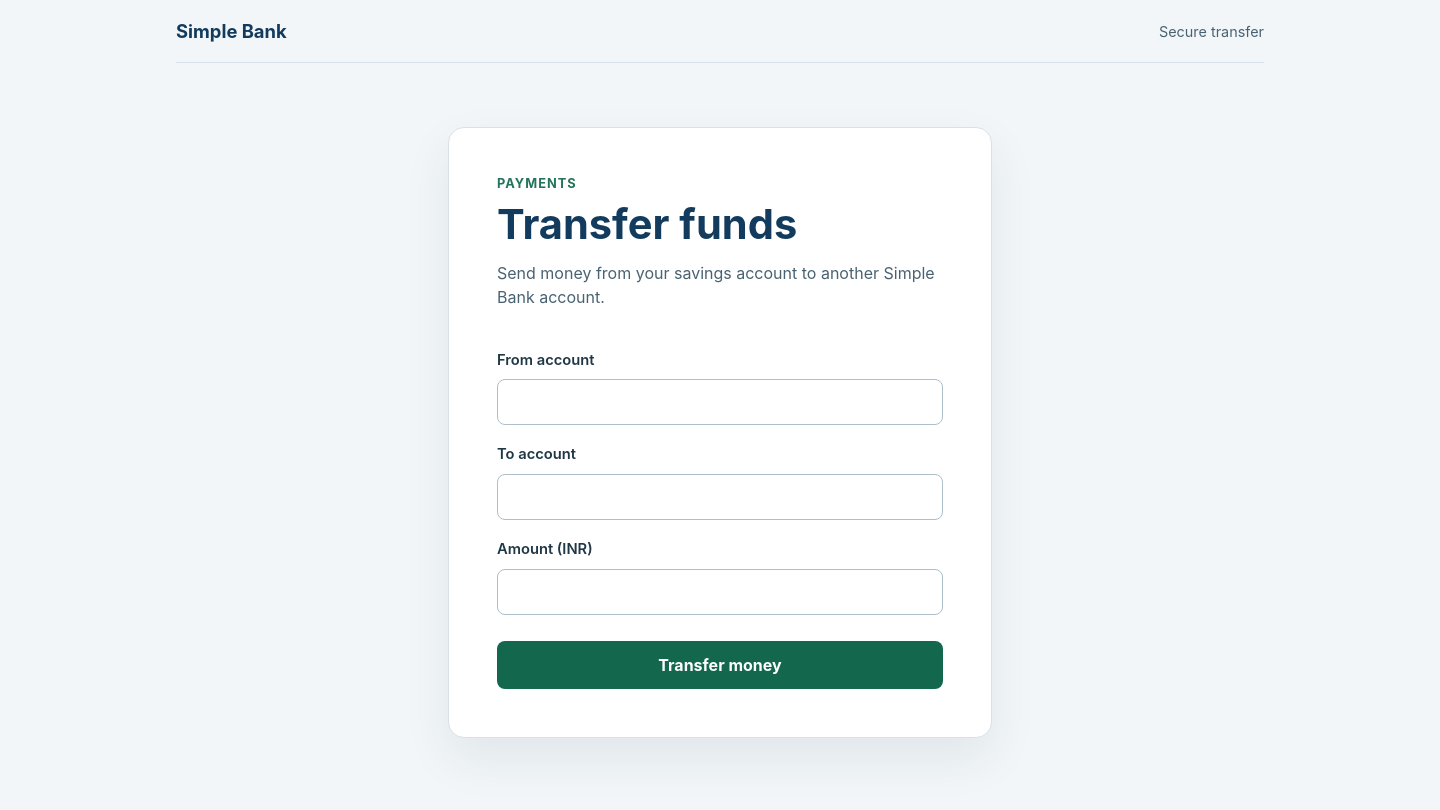
Scenario: TransferPage › shows an API decline without presenting a success confirmation
Type "12345678" into the field labelled "From account".
click(720, 402); type("12345678")  # box [497,379,943,425]
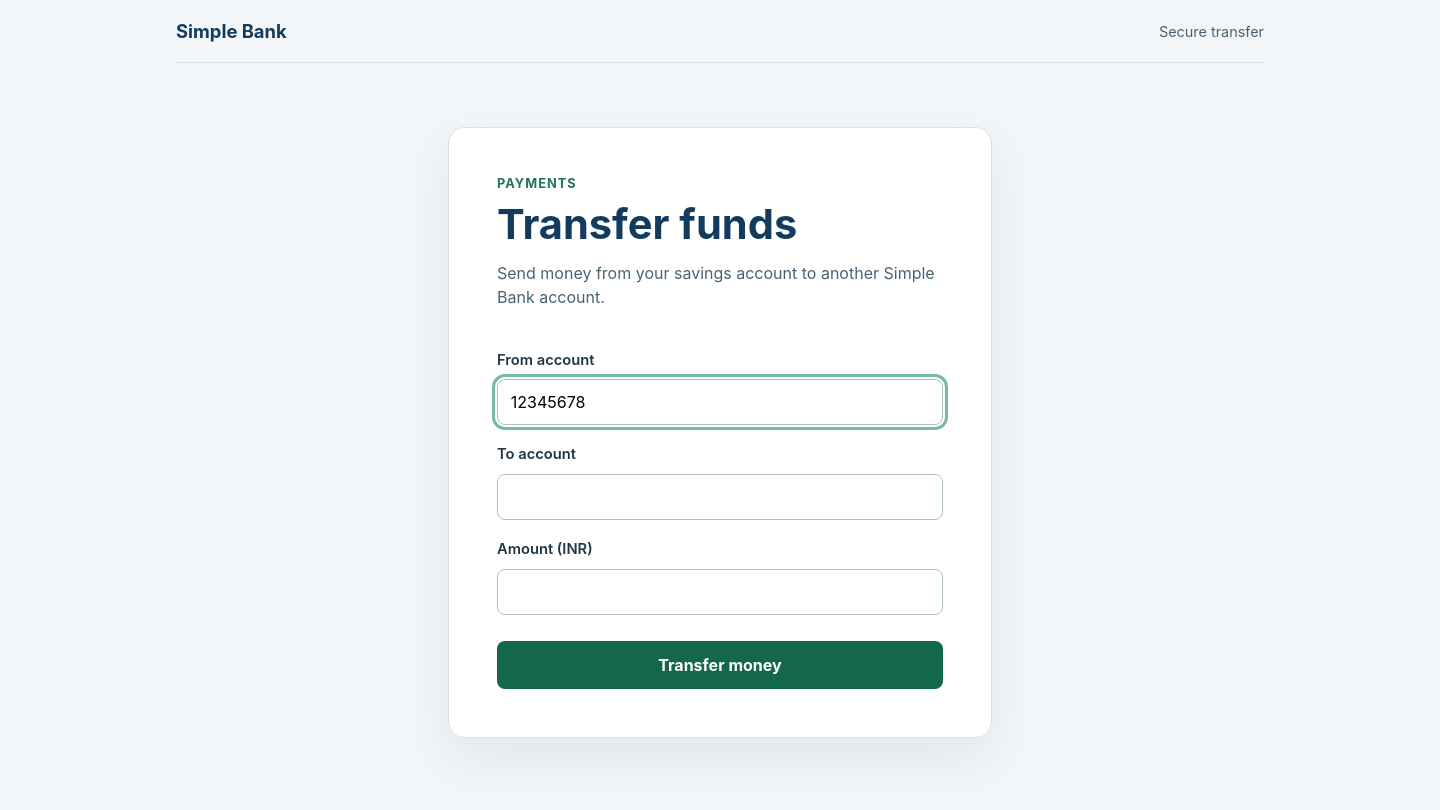
Type "87654321" into the field labelled "To account".
click(720, 497); type("87654321")  # box [497,474,943,520]
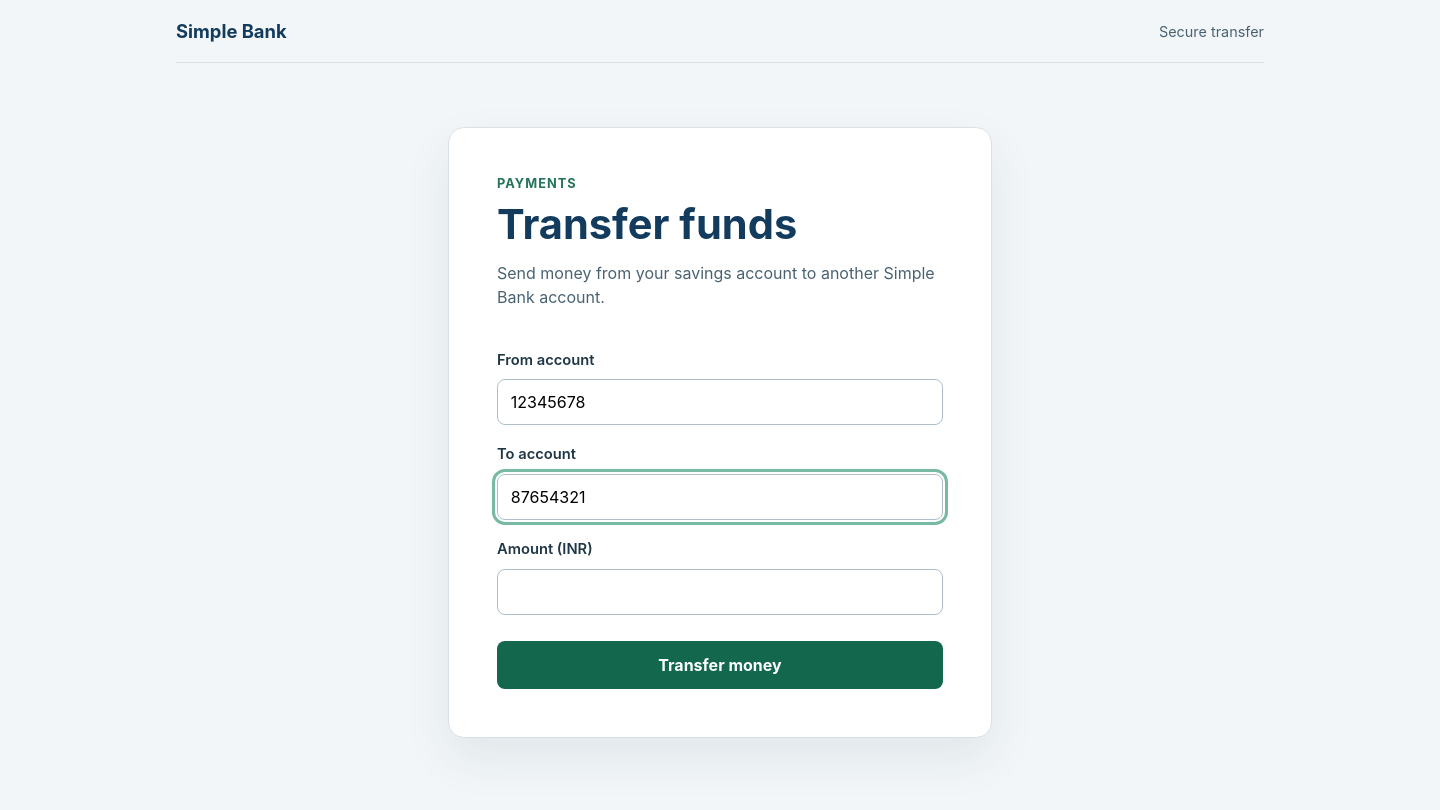
Type "125.50" into the field labelled "Amount (INR)".
click(720, 592); type("125.50")  # box [497,568,943,615]
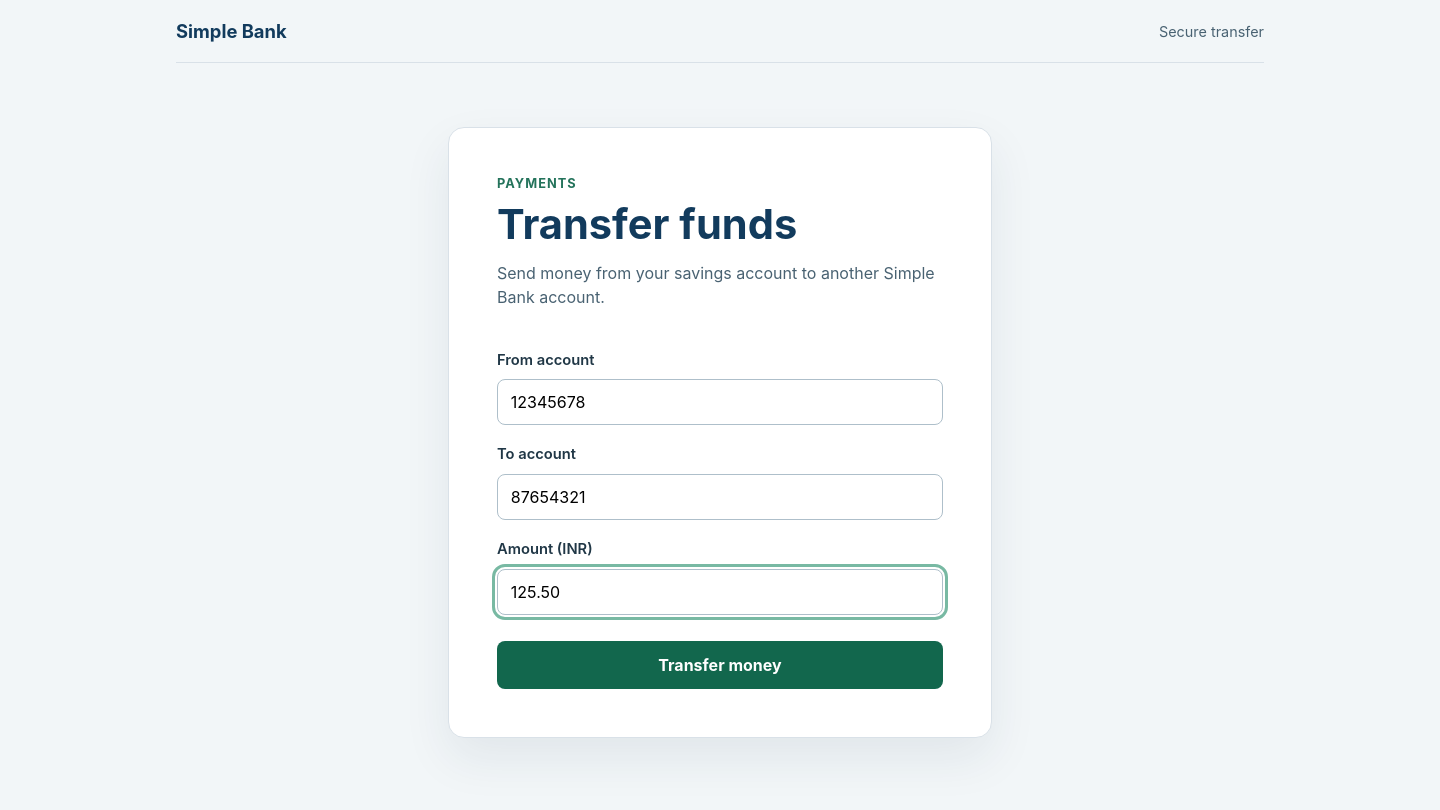
Click the button "Transfer money".
click(720, 665)  # box [497,641,943,689]
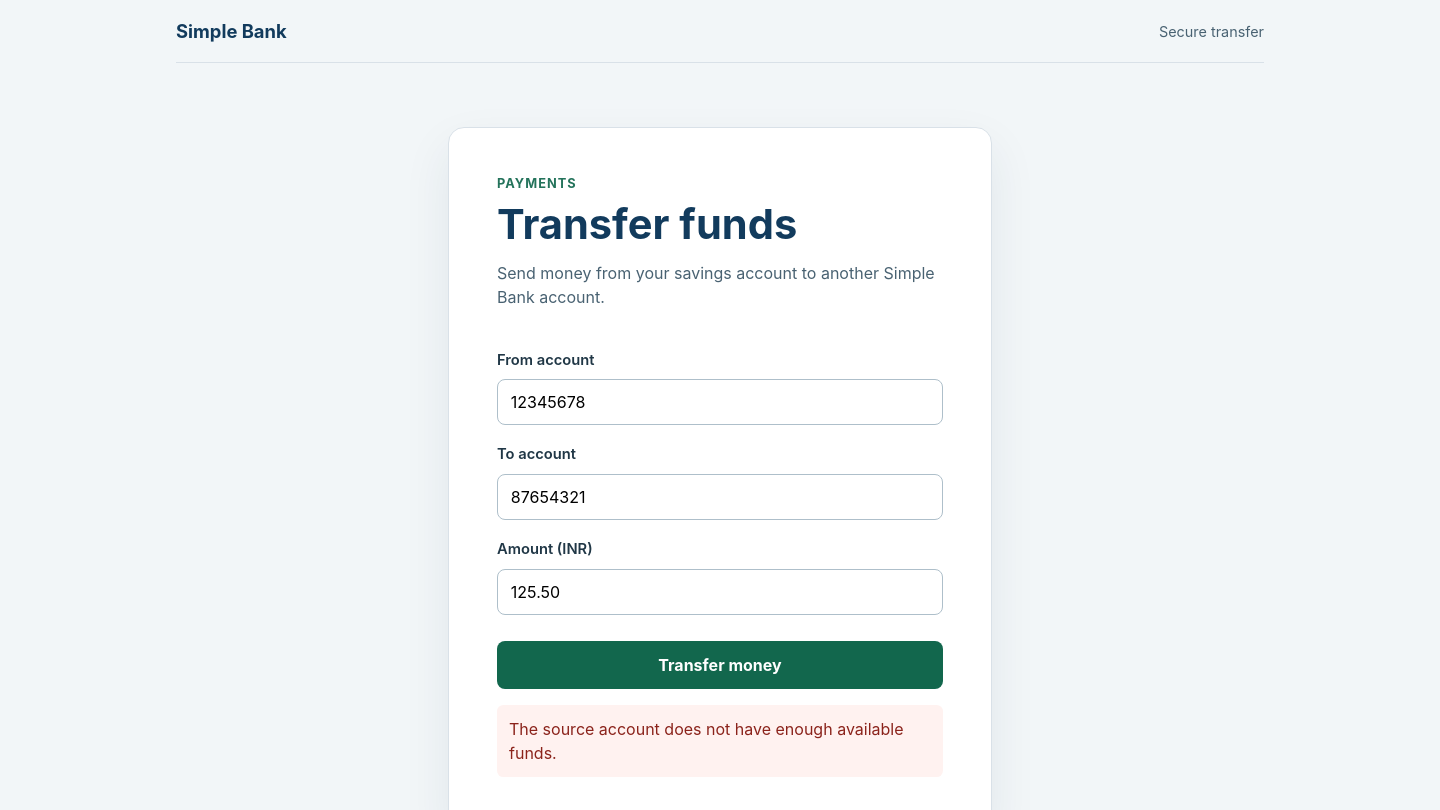
Expected: the message reads "The source account does not have enough available funds.", [509,719,904,763]
